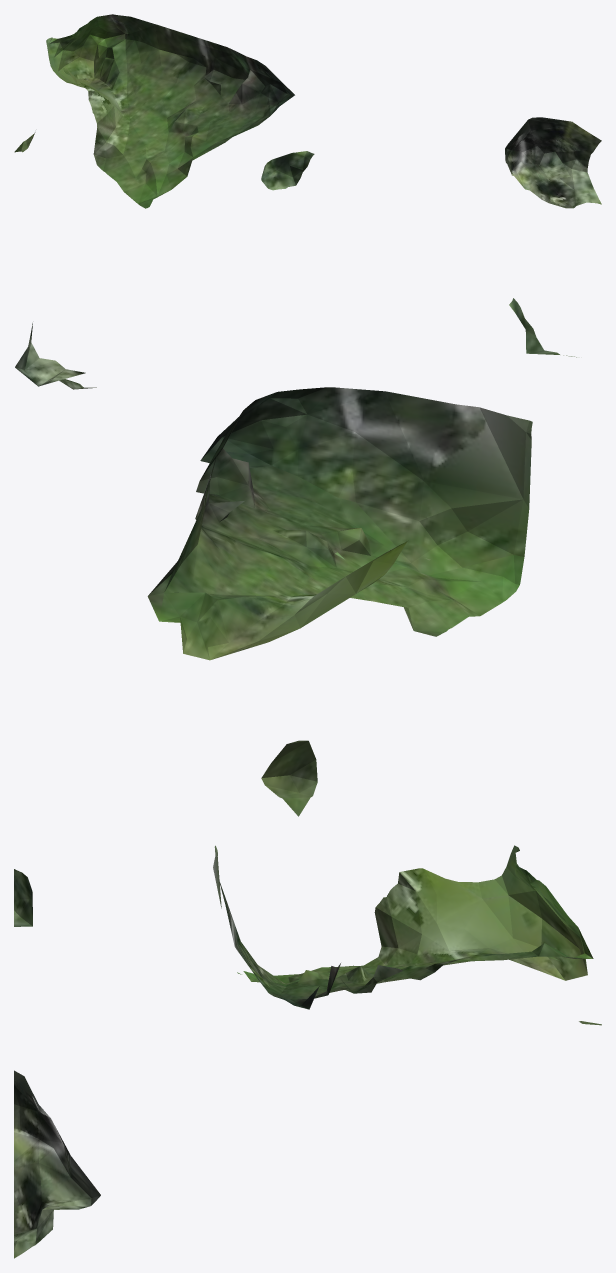
3 renders of one model, top to bottom at view 1: azimuth 30°, elevation 25°; view 2: azimuth 150°, elevation 25°; view 3: azimuth 270°, elevation 25°, orthographic. The views are drawn at different scales.
Bounding box in the file's own units: 26.11 × 9.04 × 26.11.
1 material, 1 textured.
